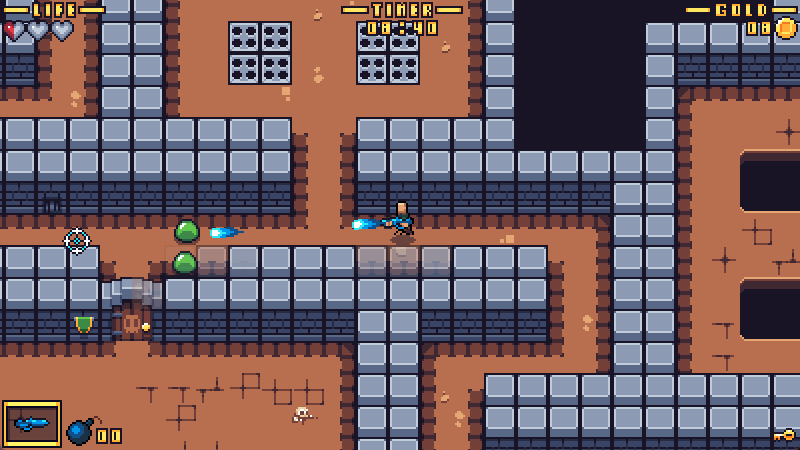aim: (64, 228, 90, 255)
door: (98, 278, 166, 344)
enemy_slug: (172, 249, 197, 275), (174, 218, 200, 242)
health-5: (1, 18, 75, 42)
key: (768, 428, 796, 444)
player: (380, 199, 414, 240)
shoot: (209, 225, 244, 240), (350, 216, 384, 230)
trap_off: (356, 22, 419, 85), (230, 21, 292, 84)
